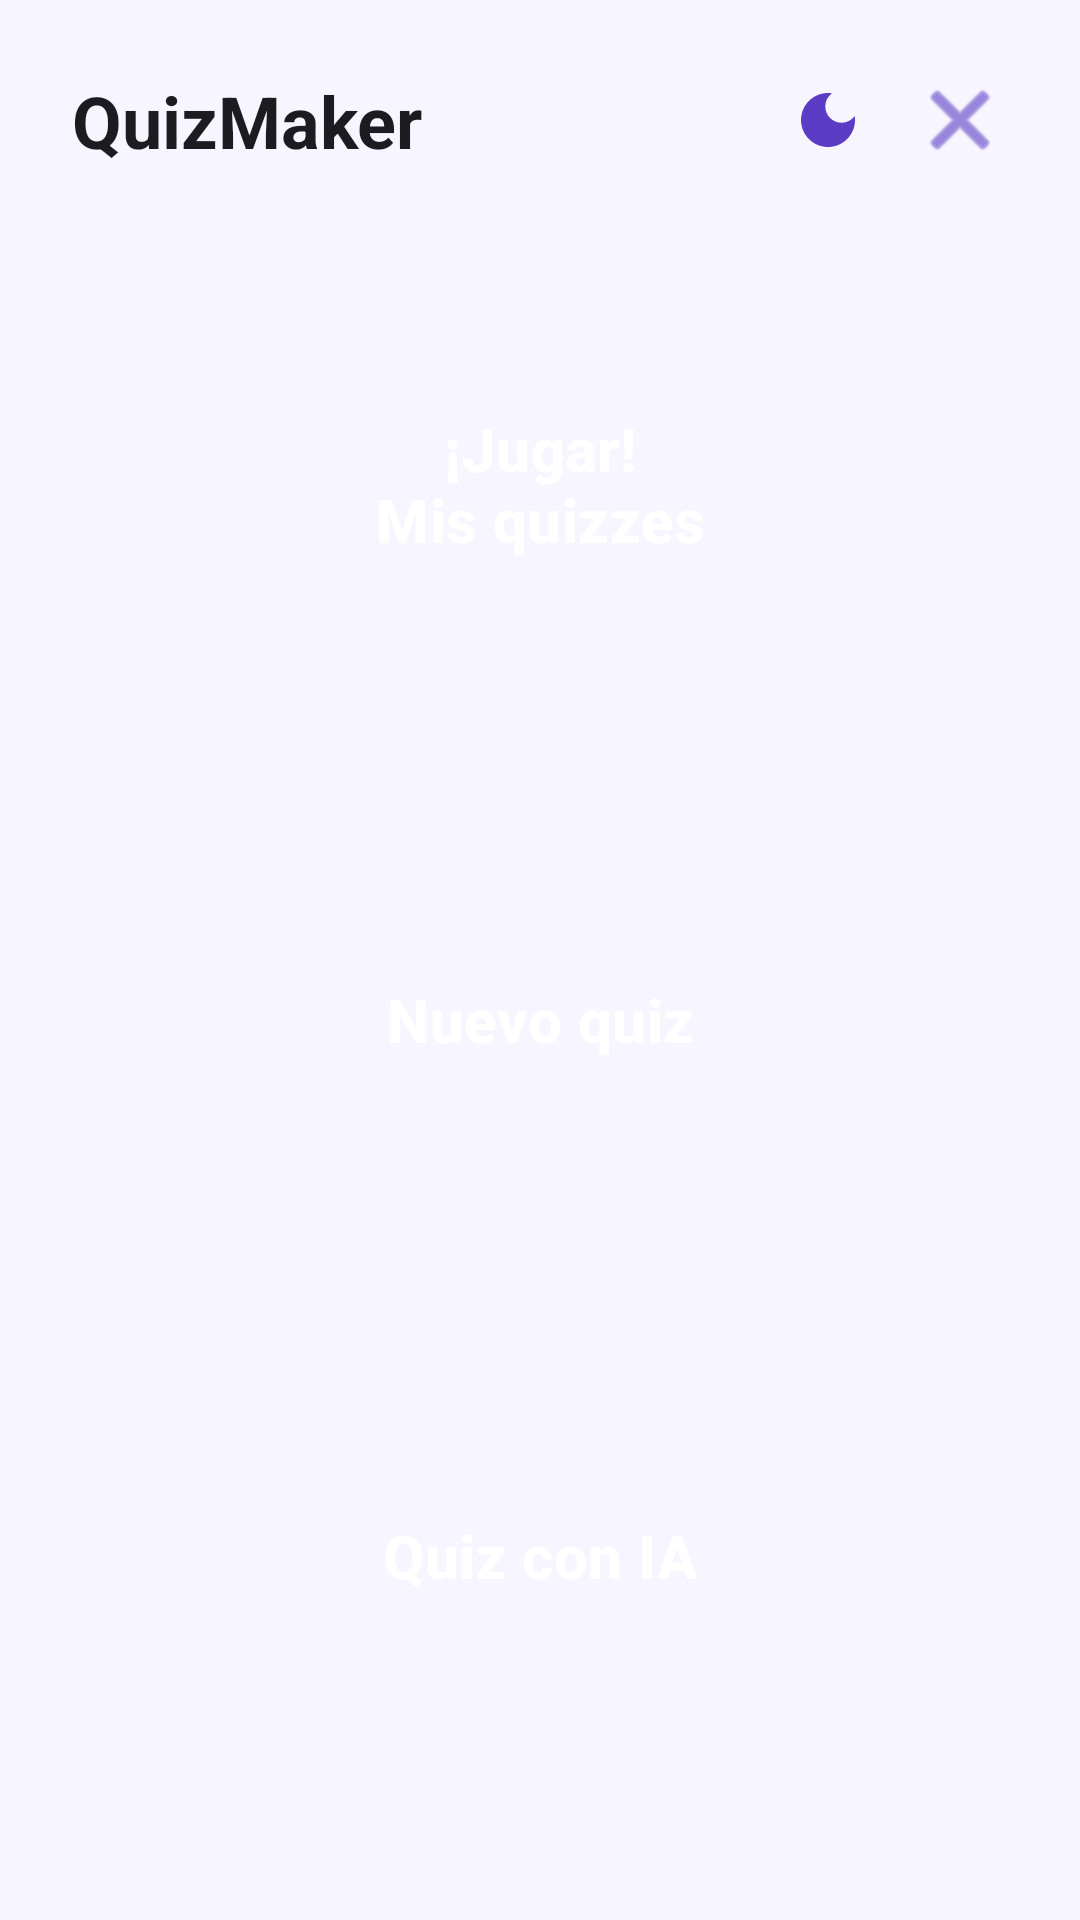

Screen size 1080*1920. Icon name, then its box in pixels as (x1, y1, x2, y2):
Cambiar a modo oscuro: (801, 93, 855, 147)
